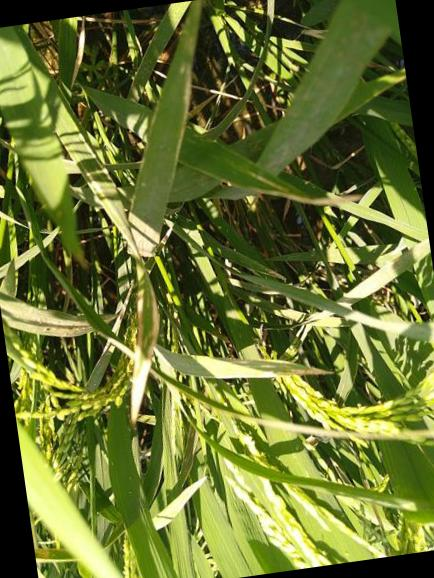Leaf Blight: (71, 152, 159, 421), (154, 0, 202, 146), (248, 170, 362, 205), (179, 424, 199, 480), (34, 545, 78, 563)
